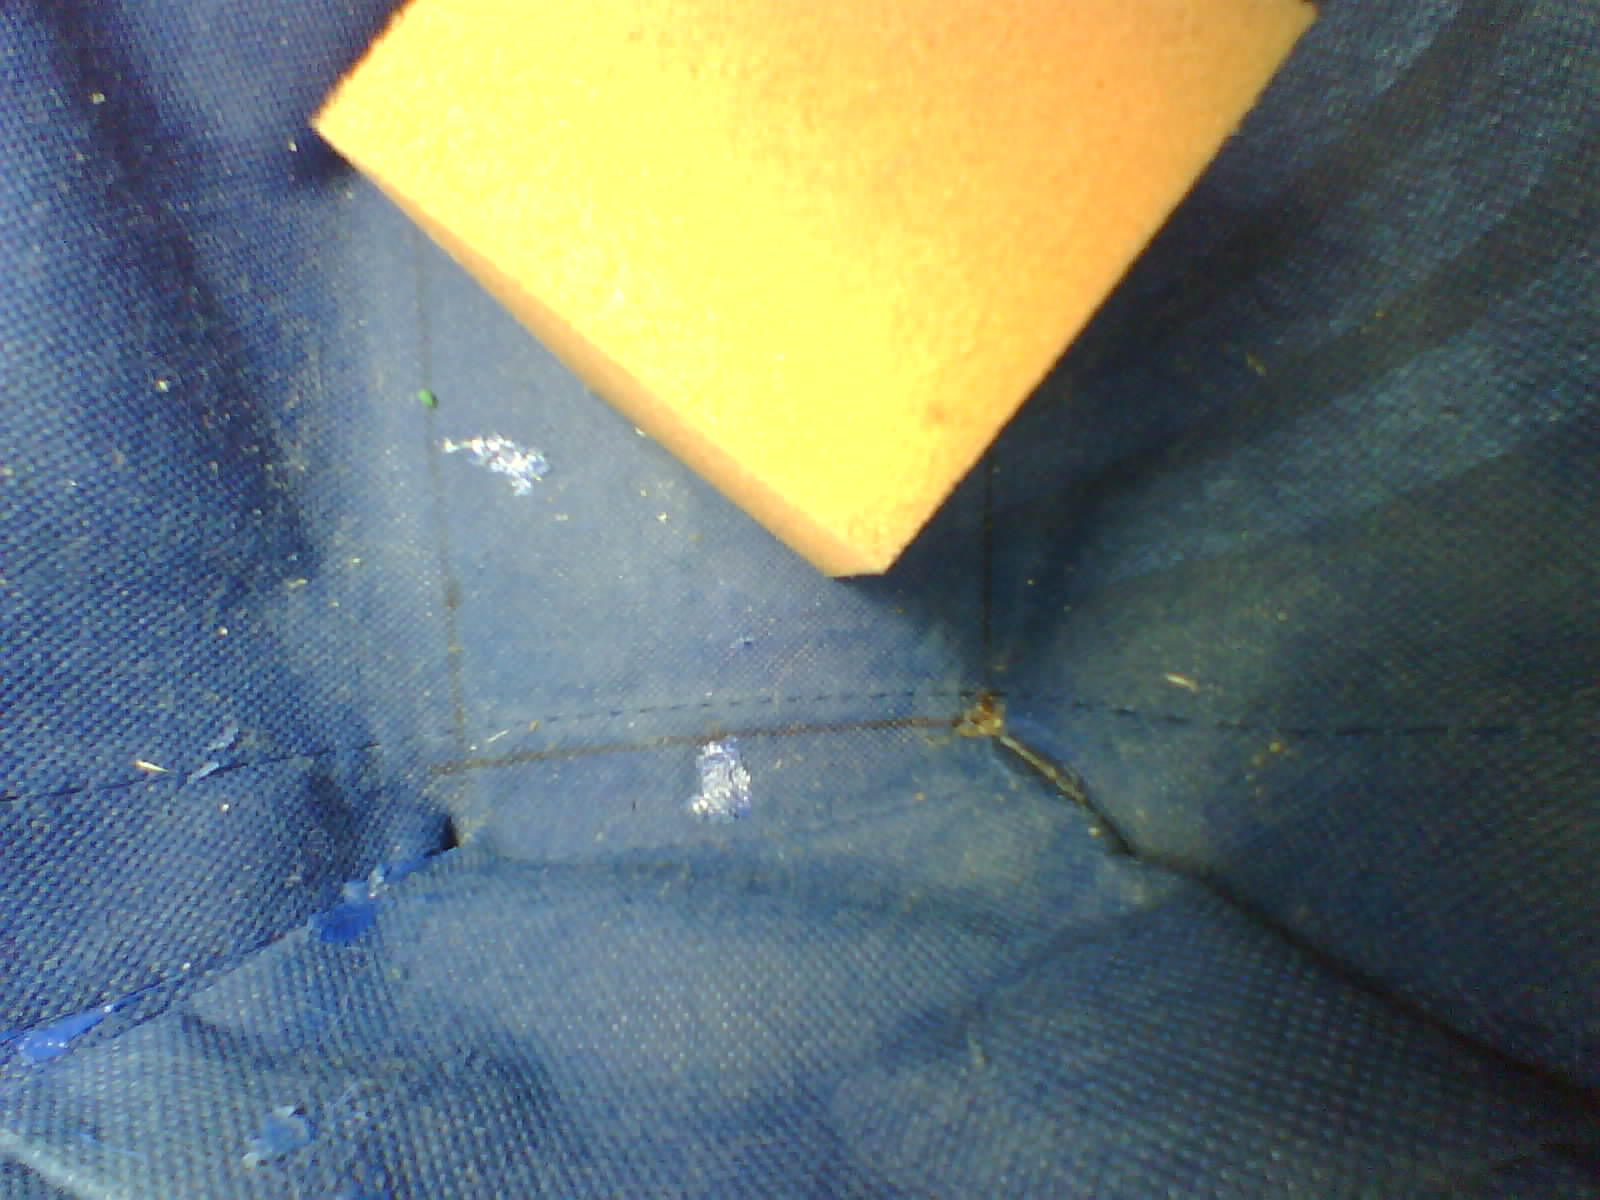cube-soft: (285, 0, 1320, 606)
